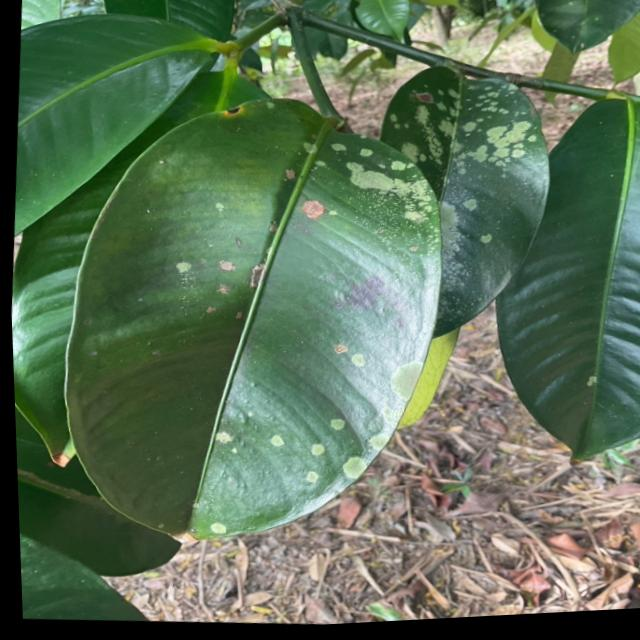Leaf Spot: (198, 377, 438, 498), (394, 62, 561, 187), (279, 114, 435, 229), (306, 313, 465, 414), (157, 240, 251, 295)
